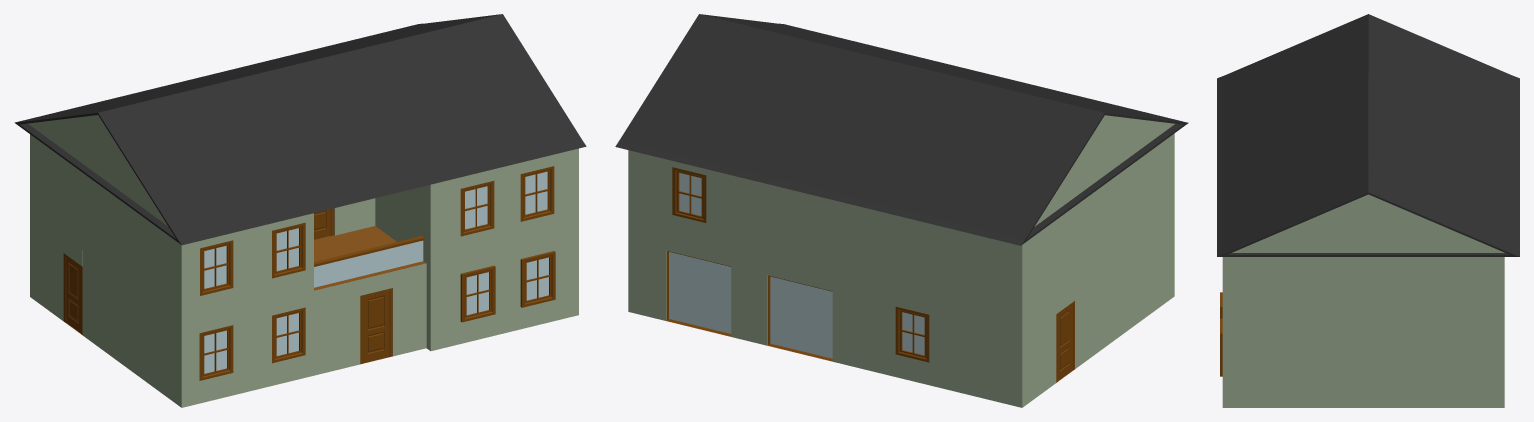
File: house8.fbx
3 views of the same model, side by side, from view 1: azimuth 30°, elevation 25°; view 2: azimuth 150°, elevation 25°; view 3: azimuth 270°, elevation 25° (orthographic). The views are drawn at different scales.
Visible parts, largest first — view 1: Base, Walls, Walls.001, Plane.001, Floor, Door, Window Frame.003, Window Frame.004, Window Frame.008, Window Frame.006, Window Frame, Window Frame.002 (+12 smaller); view 2: Base, Walls.001, Walls, Big Window.001, Big Window.002, Window Frame.005, Window Frame.009, Door.001, Window glass, Window glass.009; view 3: Base, Walls, Walls.001.
Boxes of the visible parts, x1=… form: Base: x1=14, y1=14, x2=586, y2=245; Walls: x1=30, y1=212, x2=578, y2=407; Walls.001: x1=30, y1=134, x2=578, y2=322; Plane.001: x1=314, y1=236, x2=424, y2=287; Floor: x1=314, y1=226, x2=425, y2=290; Door: x1=363, y1=291, x2=388, y2=362; Window Frame.003: x1=460, y1=265, x2=495, y2=322; Window Frame.004: x1=520, y1=251, x2=555, y2=307; Window Frame.008: x1=520, y1=166, x2=554, y2=221; Window Frame.006: x1=199, y1=325, x2=233, y2=380; Window Frame: x1=200, y1=240, x2=233, y2=295; Window Frame.002: x1=460, y1=181, x2=494, y2=236; Base: x1=615, y1=14, x2=1188, y2=245; Walls.001: x1=628, y1=133, x2=1174, y2=322; Walls: x1=628, y1=211, x2=1174, y2=407; Big Window.001: x1=767, y1=275, x2=832, y2=360; Big Window.002: x1=666, y1=251, x2=731, y2=336; Window Frame.005: x1=895, y1=306, x2=929, y2=362; Window Frame.009: x1=672, y1=167, x2=706, y2=222; Door.001: x1=1057, y1=305, x2=1072, y2=380; Window glass: x1=902, y1=312, x2=924, y2=355; Window glass.009: x1=679, y1=173, x2=701, y2=215; Base: x1=1217, y1=14, x2=1519, y2=256; Walls: x1=1222, y1=331, x2=1504, y2=407; Walls.001: x1=1222, y1=257, x2=1504, y2=331.
Bounding box in the file's own units: 1249 × 710 × 896.
